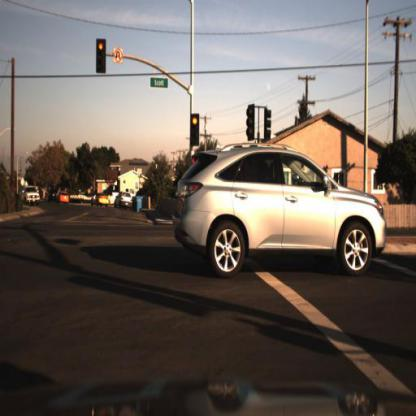car: (172, 145, 387, 281), (115, 189, 137, 213), (21, 186, 42, 211), (90, 191, 111, 212), (93, 192, 111, 213), (114, 190, 133, 208), (47, 185, 61, 206), (58, 190, 71, 208), (58, 189, 71, 205)
trafficLight-Red: (96, 36, 108, 76), (189, 112, 201, 148)
